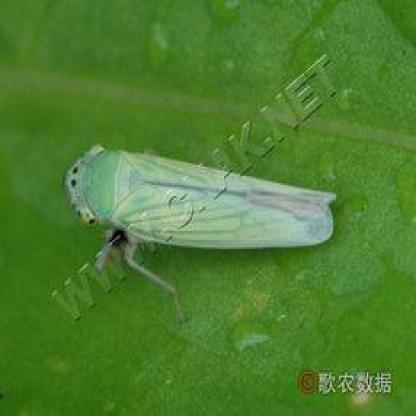Green-Leafhopper: (66, 141, 339, 319)
